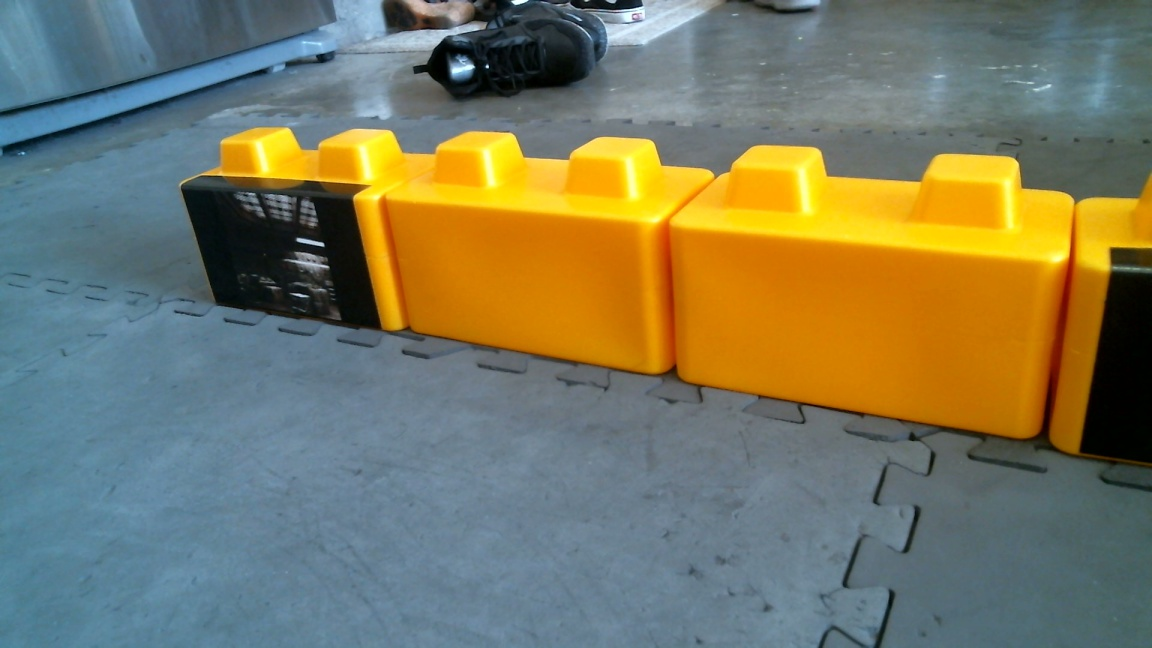left: (179, 146, 1055, 453)
